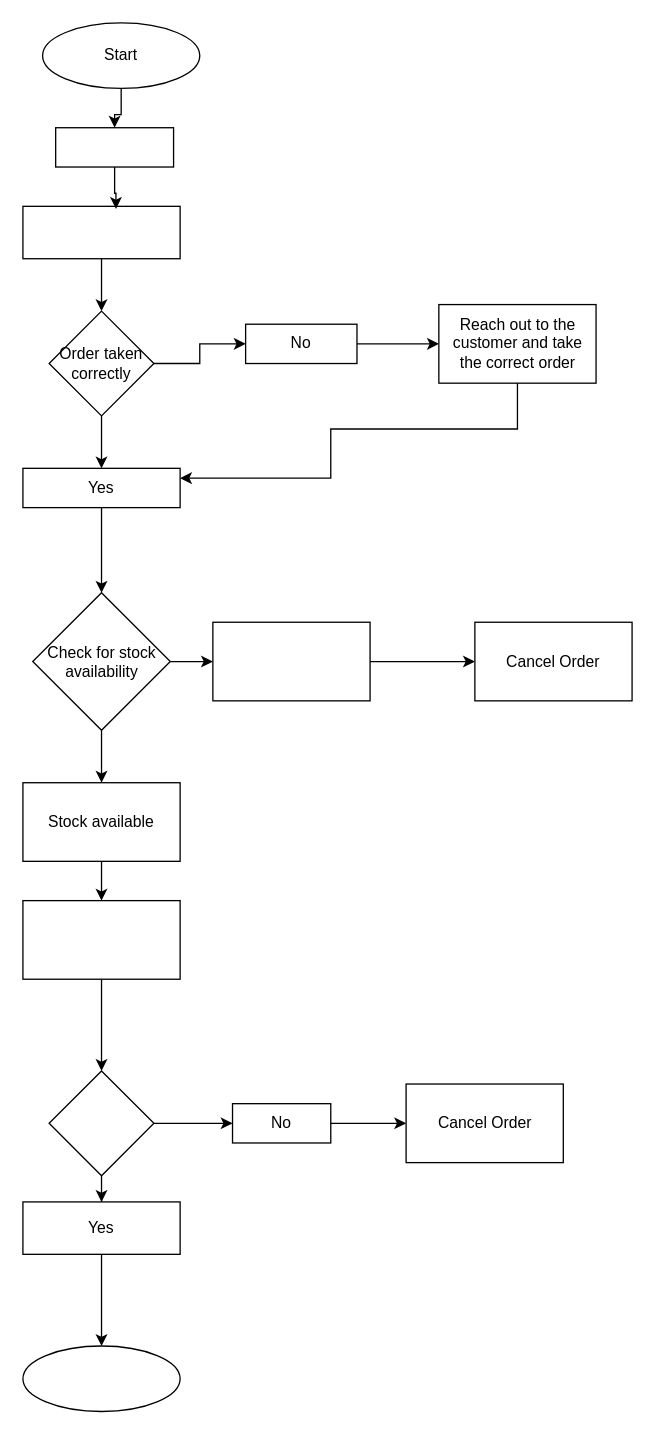
Some shapes in this 655 by 1434 pixel diagram are drawn without their labels. Each missing label, with the box of its shape:
Check if the order is correctly taken: (22, 205, 180, 259)
Payment received: (48, 1070, 154, 1176)
Proceed with the payment: (22, 899, 180, 979)
Product delivery: (22, 1345, 180, 1412)
Receive customer Order: (54, 126, 174, 167)
Stock not available: (212, 621, 370, 701)
